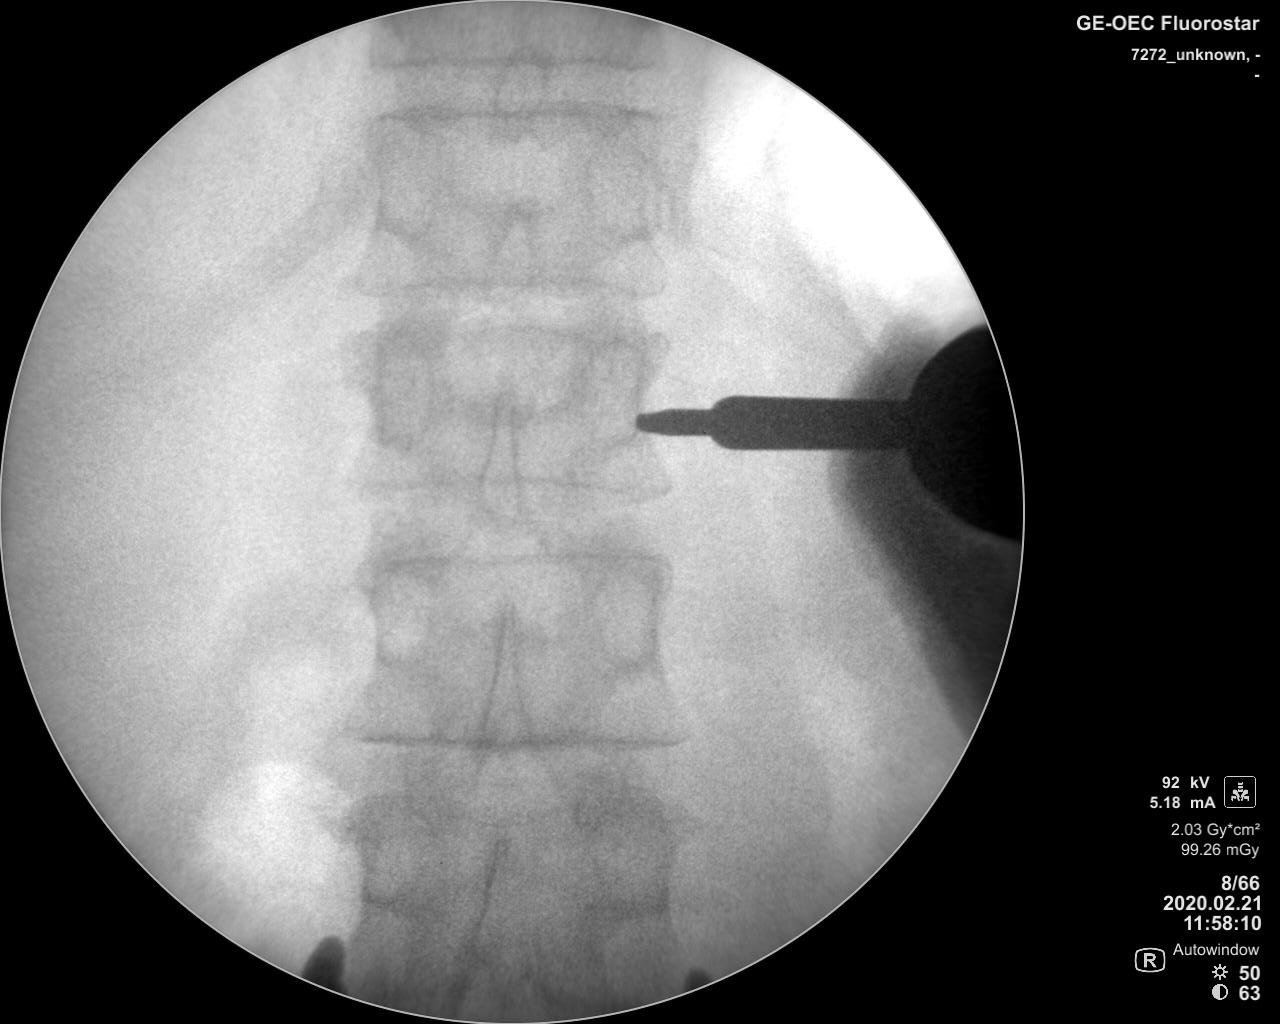eyes: (369, 108, 439, 241), (596, 802, 681, 910), (351, 795, 433, 899), (367, 328, 435, 448), (585, 134, 658, 245), (573, 336, 641, 441), (365, 562, 433, 664), (594, 563, 659, 667)
line: (329, 467, 684, 514), (322, 721, 696, 760), (348, 93, 685, 132), (343, 318, 677, 352), (329, 544, 680, 576), (358, 48, 662, 84), (340, 274, 670, 306)
nose: (474, 595, 537, 771), (470, 821, 529, 980), (474, 381, 528, 529), (478, 196, 541, 310), (493, 21, 544, 139)
